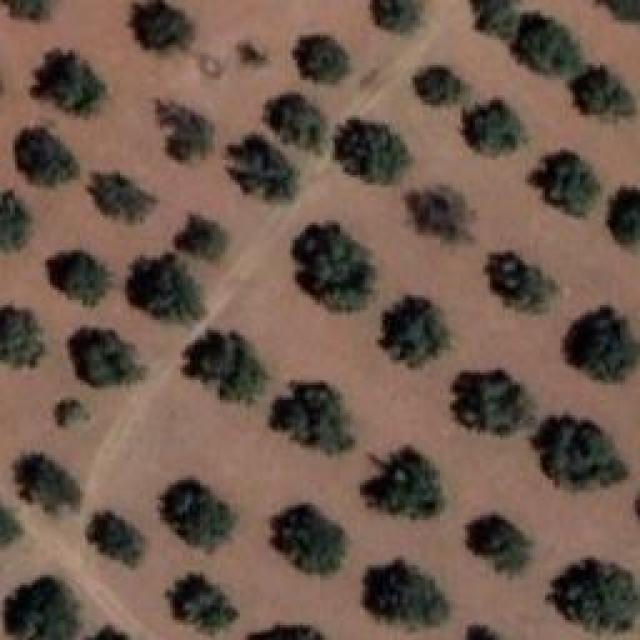Tree: (293, 222, 372, 312), (547, 557, 640, 632), (533, 418, 629, 490), (185, 330, 268, 403), (363, 448, 446, 520), (270, 384, 354, 454), (365, 560, 449, 630), (565, 307, 639, 382), (160, 480, 235, 552), (453, 370, 536, 435), (128, 253, 207, 321), (273, 505, 347, 575), (380, 295, 450, 367), (513, 15, 587, 80), (335, 120, 411, 183), (5, 577, 80, 640), (228, 135, 298, 202), (530, 150, 601, 216), (33, 53, 107, 115), (168, 573, 241, 634), (68, 328, 143, 386), (490, 253, 555, 314), (468, 515, 533, 575), (15, 455, 80, 513), (15, 130, 79, 187), (265, 92, 325, 152), (48, 250, 110, 306), (408, 186, 472, 240), (88, 174, 157, 224), (463, 100, 523, 157), (158, 100, 214, 161), (570, 65, 633, 115), (90, 513, 145, 566), (292, 35, 350, 82), (0, 308, 45, 368), (135, 0, 190, 49), (175, 215, 226, 261), (607, 187, 640, 246), (413, 68, 463, 106), (0, 190, 31, 250), (472, 0, 522, 37), (372, 0, 420, 32), (248, 625, 324, 640), (2, 0, 52, 21), (55, 400, 91, 428), (0, 505, 21, 545), (605, 0, 640, 21), (85, 625, 130, 640), (467, 627, 500, 640)
